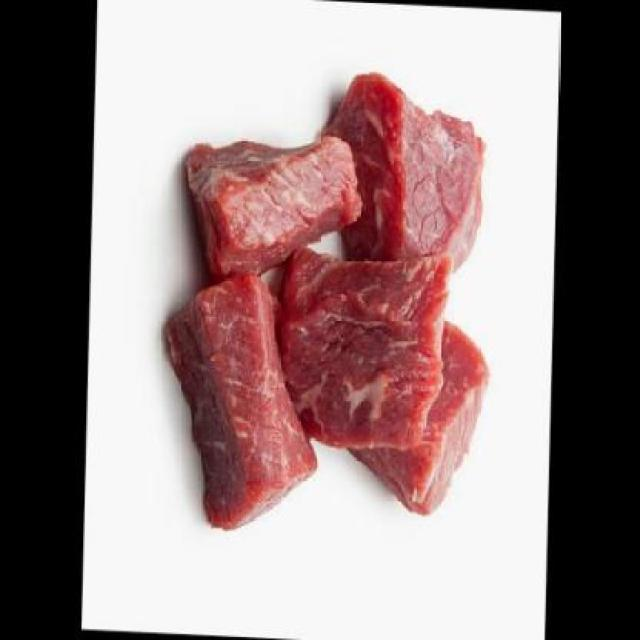beef: (153, 262, 323, 546), (318, 68, 496, 287), (268, 243, 452, 449), (170, 130, 370, 284)
